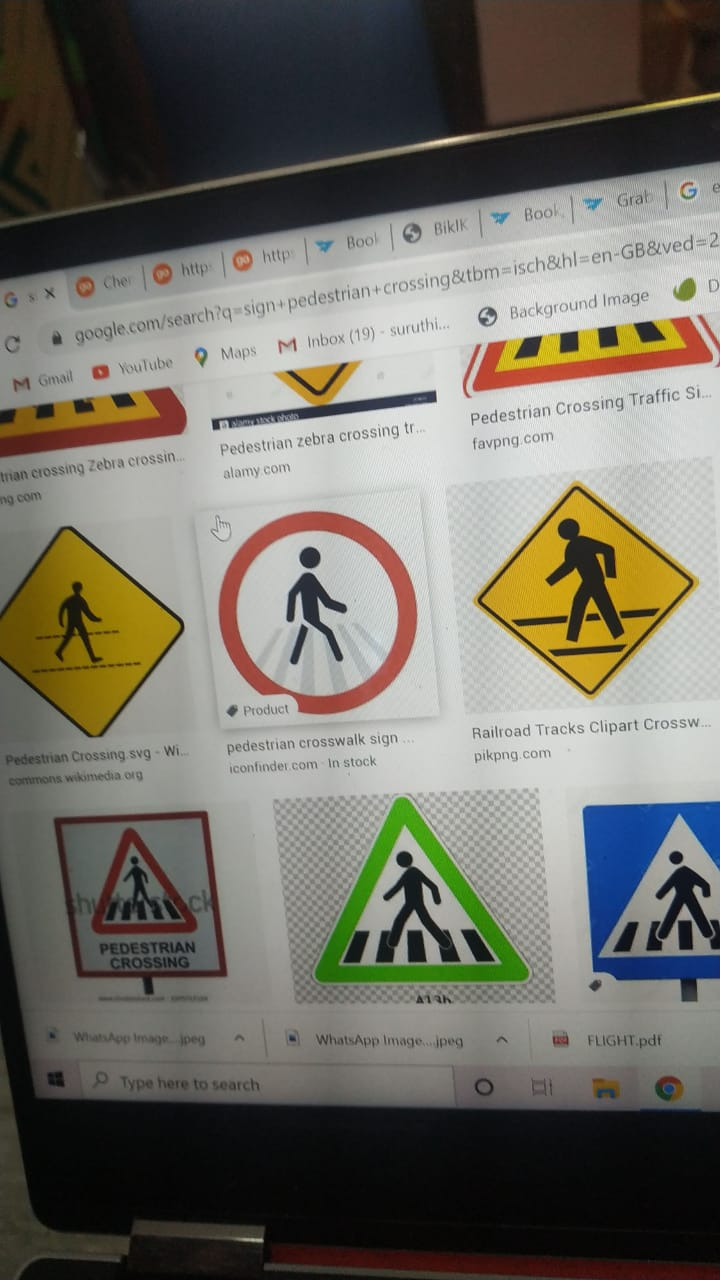PEDESTRIAN CROSSING: (304, 767, 541, 1008), (31, 798, 247, 996), (451, 314, 720, 440), (572, 769, 720, 982), (1, 380, 198, 444)
